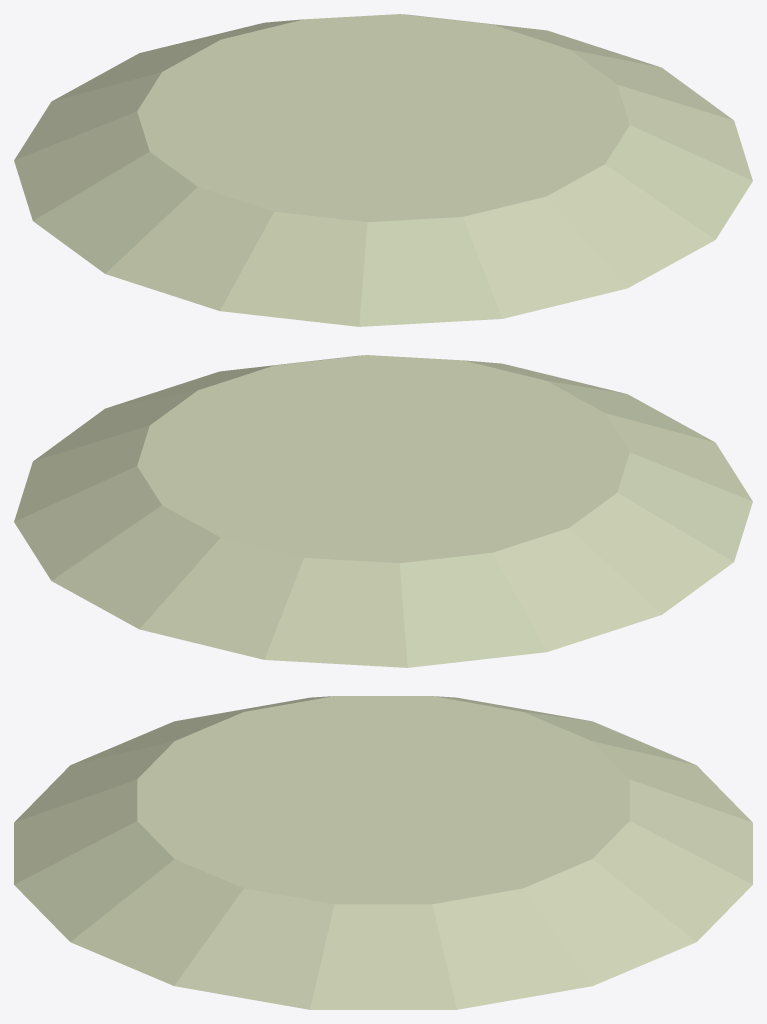
The model's file is regulus_adapter_s1p5_s1_1_collider.obj.
The picture shows the model from 3 angles, top to bottom: view 1: azimuth 30°, elevation 25°; view 2: azimuth 150°, elevation 25°; view 3: azimuth 270°, elevation 25°; orthographic projection.
Visible parts, largest first — view 1: regulus_adapter_s1p5_s1_1_collider; view 2: regulus_adapter_s1p5_s1_1_collider; view 3: regulus_adapter_s1p5_s1_1_collider.
Part boxes in pixels (bbox=[...]): regulus_adapter_s1p5_s1_1_collider: bbox=[14, 14, 752, 326]; regulus_adapter_s1p5_s1_1_collider: bbox=[14, 355, 752, 667]; regulus_adapter_s1p5_s1_1_collider: bbox=[14, 696, 752, 1009].
Bounding box in the file's own units: 1.88 × 0.15 × 1.88.
